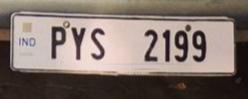1: (160, 28, 173, 64)
2: (143, 27, 160, 64)
9: (190, 28, 209, 66), (173, 27, 190, 63)
P: (48, 23, 67, 61)
S: (89, 25, 110, 62)
Y: (69, 22, 87, 61)
